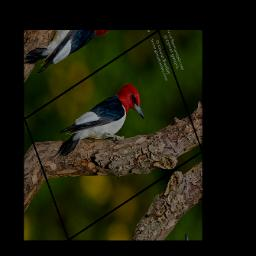Woodpecker: (43, 77, 150, 185)
